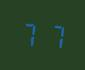seven: (19, 18, 41, 49), (42, 20, 64, 51)
